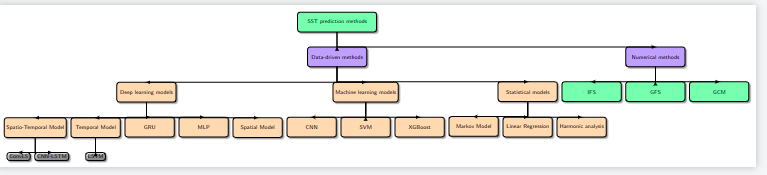bottles: (268, 9, 435, 45)
